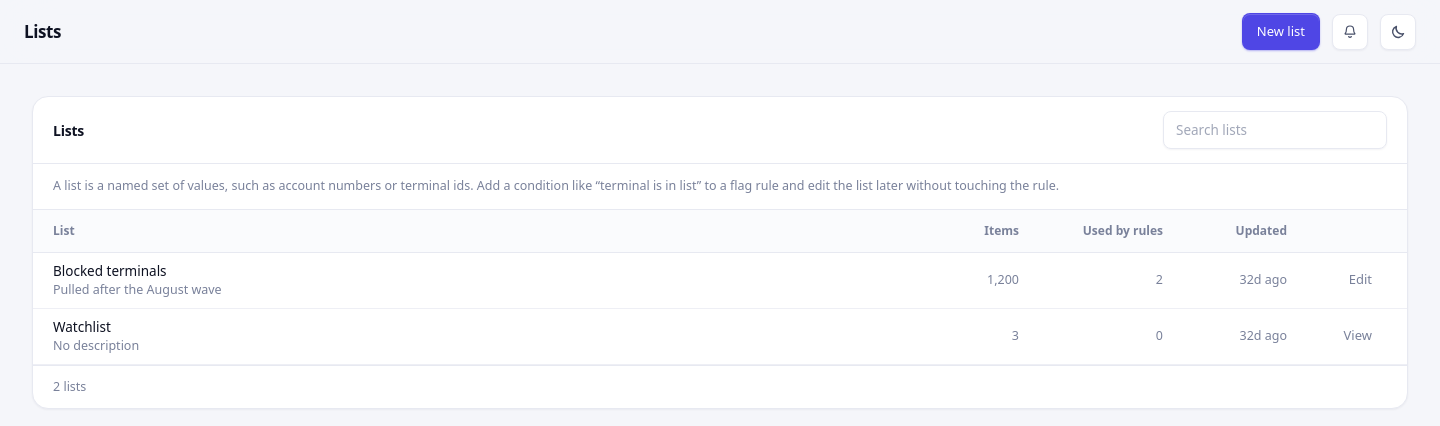
Test case: the lists index › filters by name or description and says how many matched
In the search field named "Filter lists": [1275, 130] box [1163,111,1387,149], type "AUGUST"
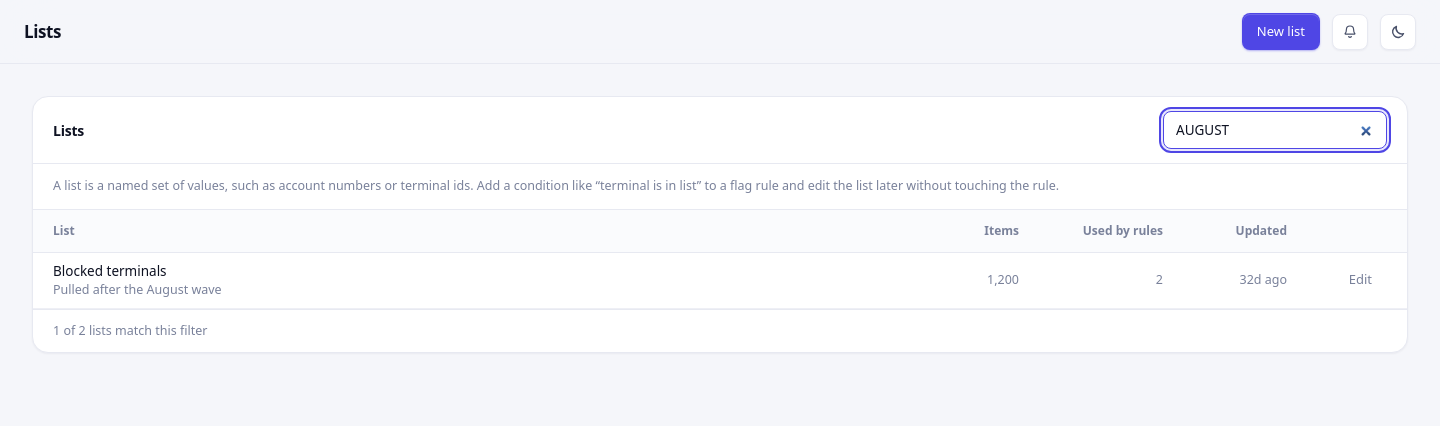
Expected: the link "Blocked terminals" is shown, [53,262,167,280]
Expected: the link "Watchlist" is gone
Expected: the text "1 of 2 lists match this filter" is shown, [53,322,208,340]
Replace the text in the search field named "Filter lists" with "watch": [1275, 130] box [1163,111,1387,149]
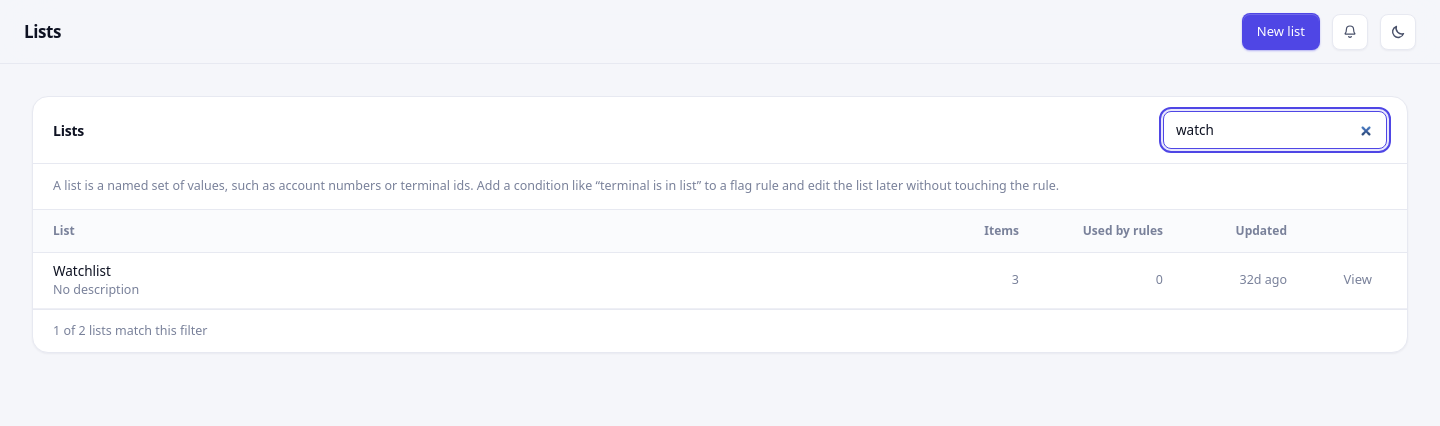
Expected: the link "Watchlist" is shown, [53,262,111,280]
Expected: the link "Blocked terminals" is gone
